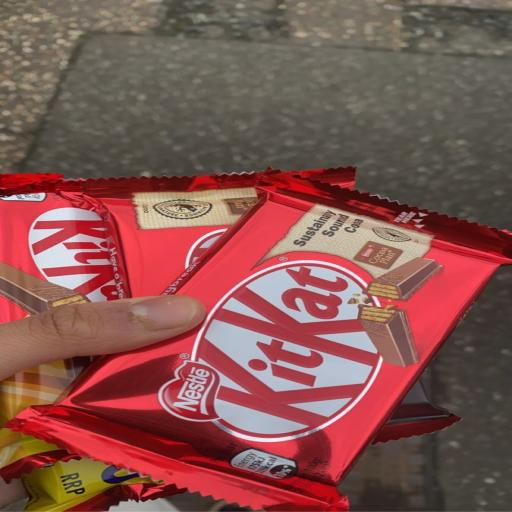kitkat: (153, 216, 512, 490)
